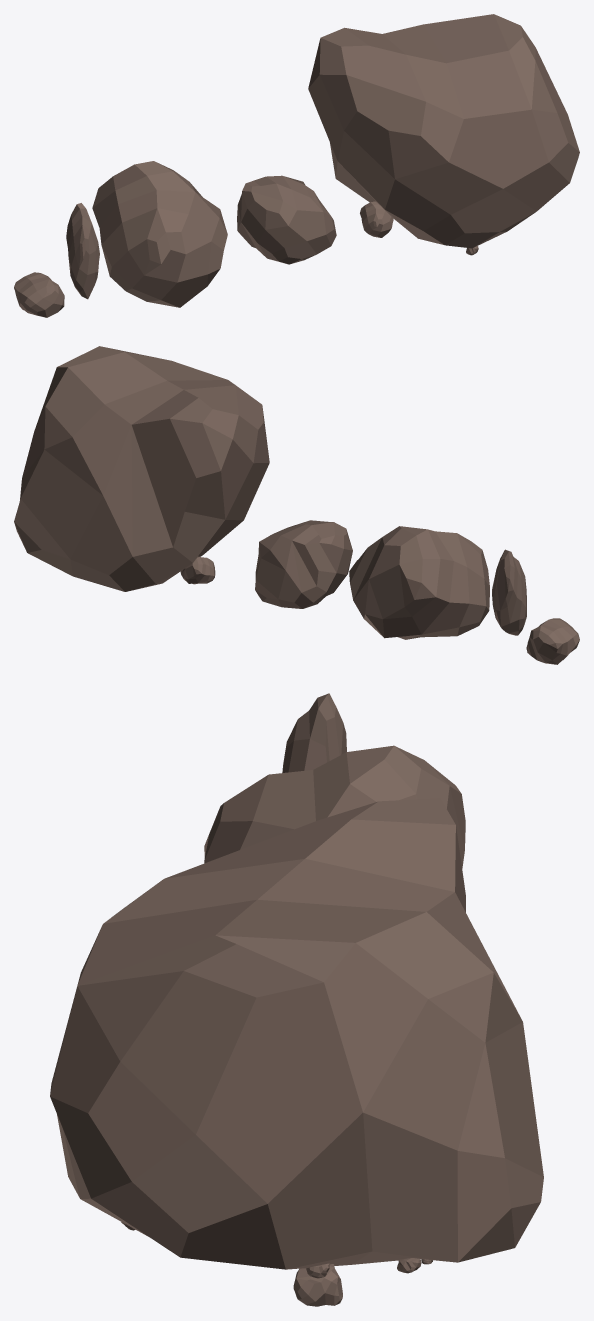
The model's file is THE rock colection.fbx.
The picture shows the model from 3 angles, top to bottom: view 1: azimuth 30°, elevation 25°; view 2: azimuth 150°, elevation 25°; view 3: azimuth 270°, elevation 25°; orthographic projection. The views are drawn at different scales.
Visible parts, largest first — view 1: rock_5x5x5_fix, rock_3x3x3, rock_2x2x2, rock_1x2x1, rock_1x1x1; view 2: rock_5x5x5_fix, rock_3x3x3, rock_2x2x2, rock_1x2x1, rock_1x1x1; view 3: rock_5x5x5_fix, rock_3x3x3, rock_1x2x1.
Boxes of the visible parts, x1=… form: rock_5x5x5_fix: x1=308, y1=14, x2=579, y2=255; rock_3x3x3: x1=92, y1=161, x2=227, y2=307; rock_2x2x2: x1=237, y1=175, x2=336, y2=264; rock_1x2x1: x1=66, y1=203, x2=99, y2=299; rock_1x1x1: x1=14, y1=272, x2=64, y2=317; rock_5x5x5_fix: x1=14, y1=346, x2=269, y2=591; rock_3x3x3: x1=349, y1=526, x2=489, y2=639; rock_2x2x2: x1=255, y1=520, x2=352, y2=608; rock_1x2x1: x1=492, y1=549, x2=526, y2=635; rock_1x1x1: x1=526, y1=618, x2=579, y2=664; rock_5x5x5_fix: x1=50, y1=798, x2=543, y2=1306; rock_3x3x3: x1=204, y1=745, x2=465, y2=868; rock_1x2x1: x1=282, y1=693, x2=346, y2=772.
Bounding box in the file's own units: 11.67 × 4.02 × 4.71.
